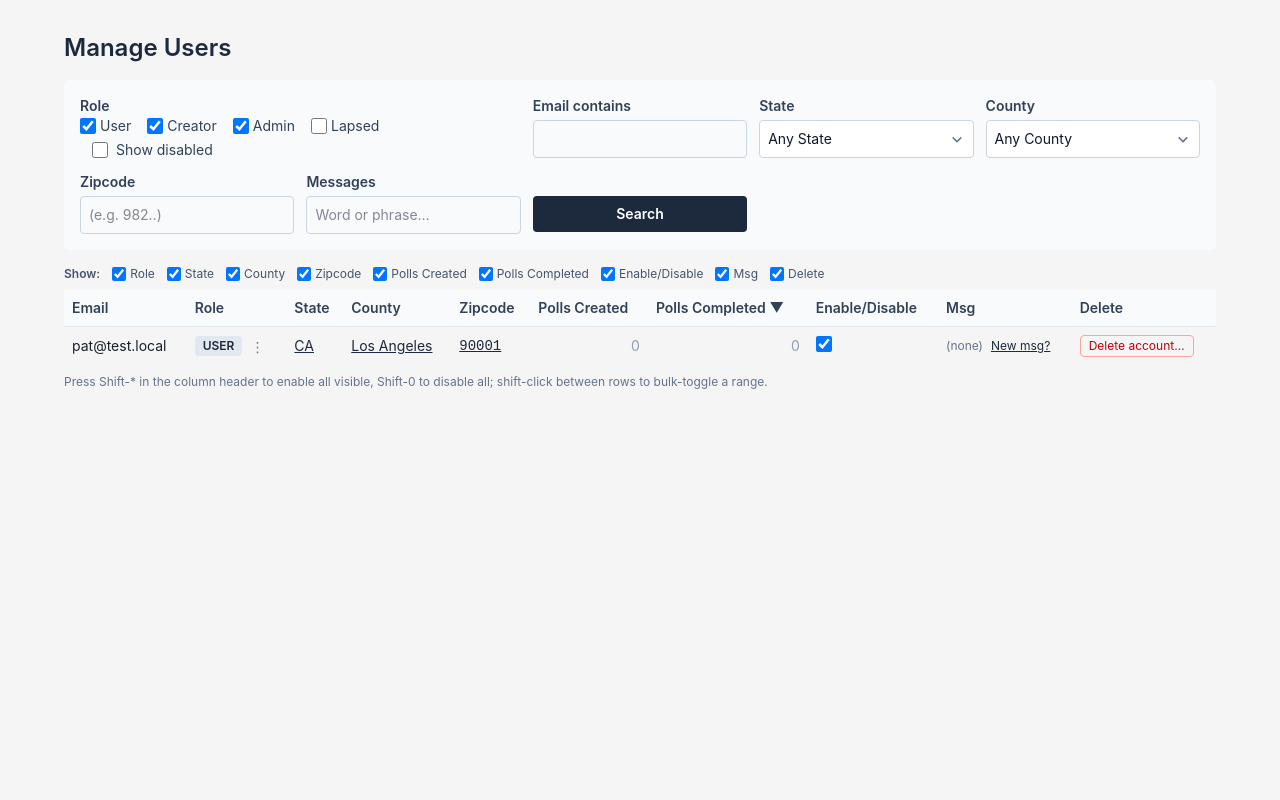
ManageUsersView: raising a role grants an area › Edit shows the area picker only when the role goes up
Step 1. Click the button "USER" → (219, 346), box top-left (195, 336), bottom-right (242, 356)
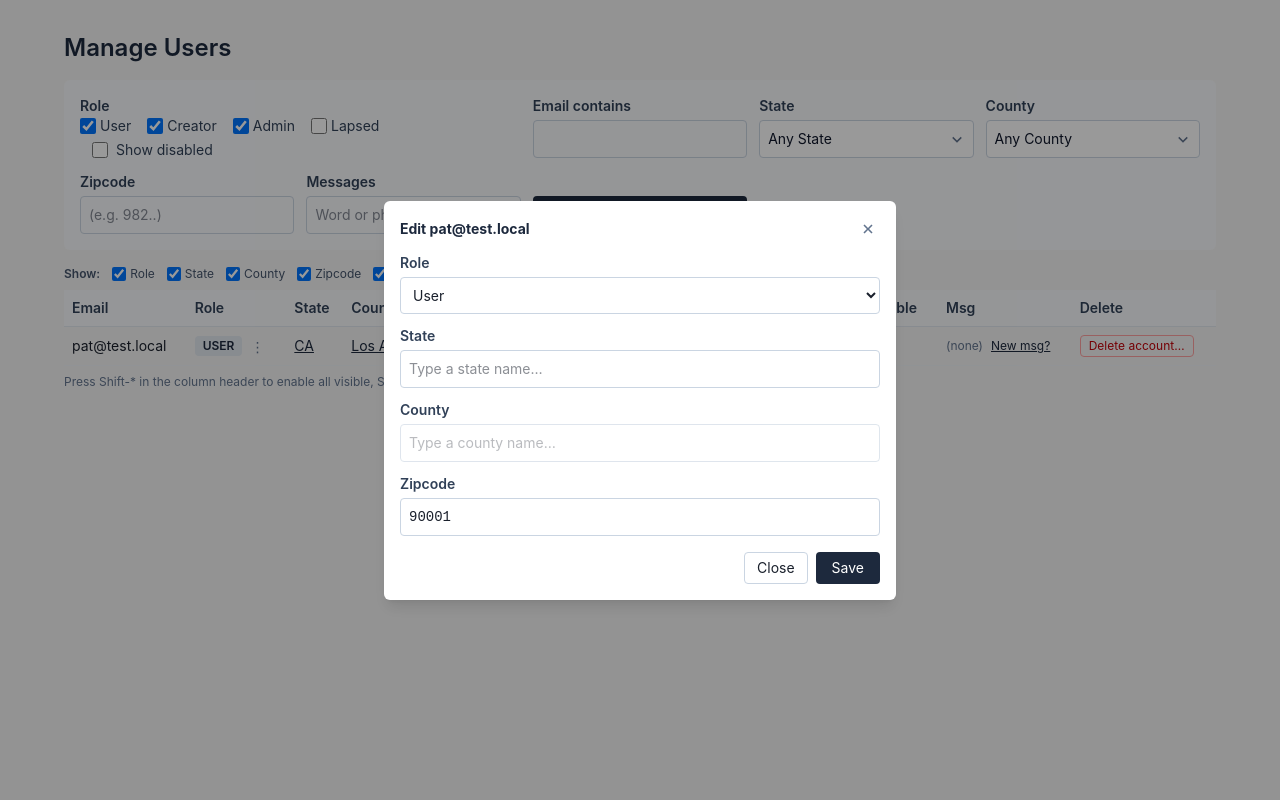
Step 2. Select "Admin" in the dropdown labelled "Role" → (640, 295), box top-left (400, 276), bottom-right (880, 314)
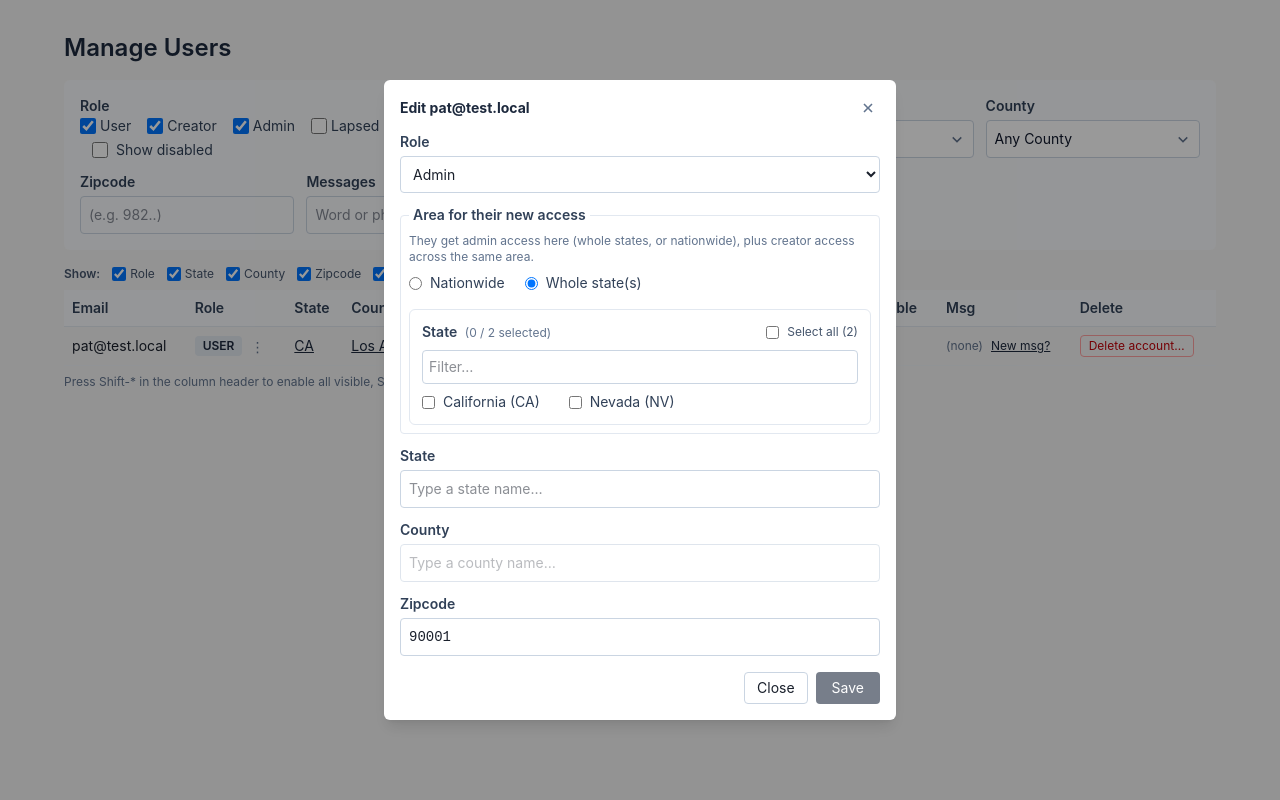
Now the element with test id "edit-area" shows "admin access", box top-left (409, 233), bottom-right (855, 264)
Now the button "Save" is disabled, box top-left (816, 672), bottom-right (880, 704)
Step 3. Click the radio button labelled "Nationwide" → (416, 283), box top-left (409, 276), bottom-right (422, 290)
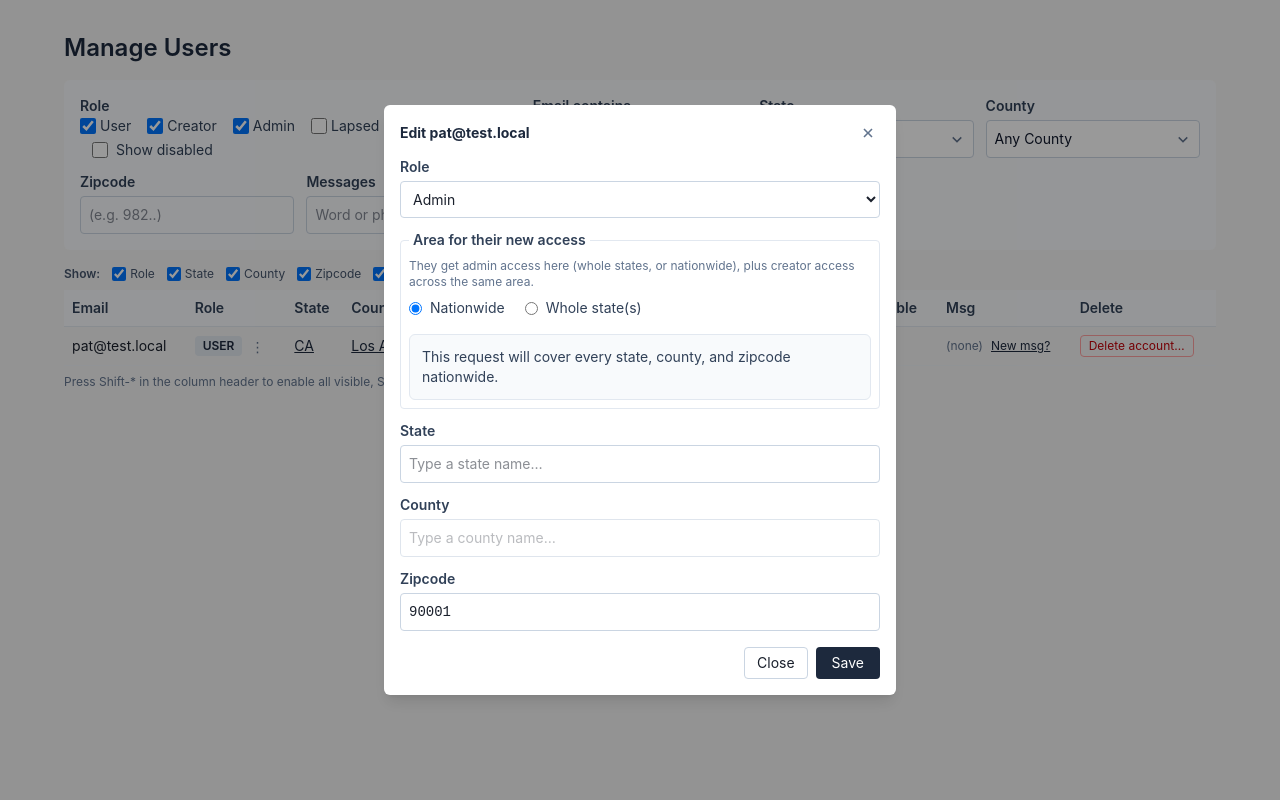
Now the button "Save" is enabled, box top-left (816, 647), bottom-right (880, 679)
